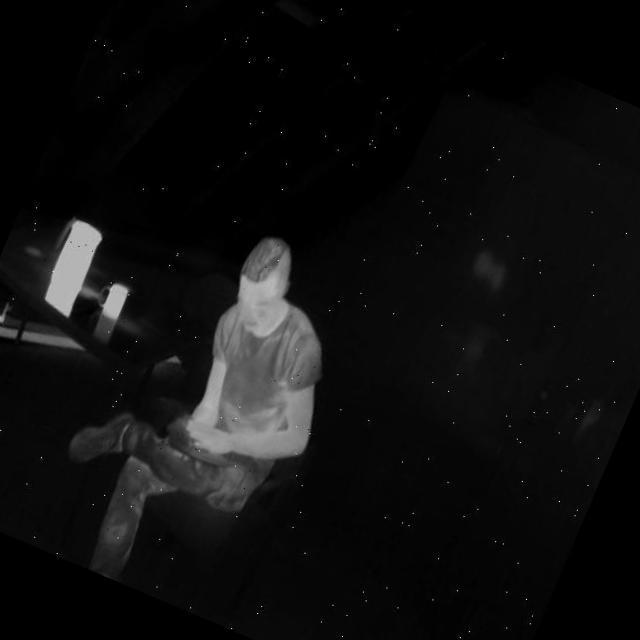person: (20, 182, 385, 630)
